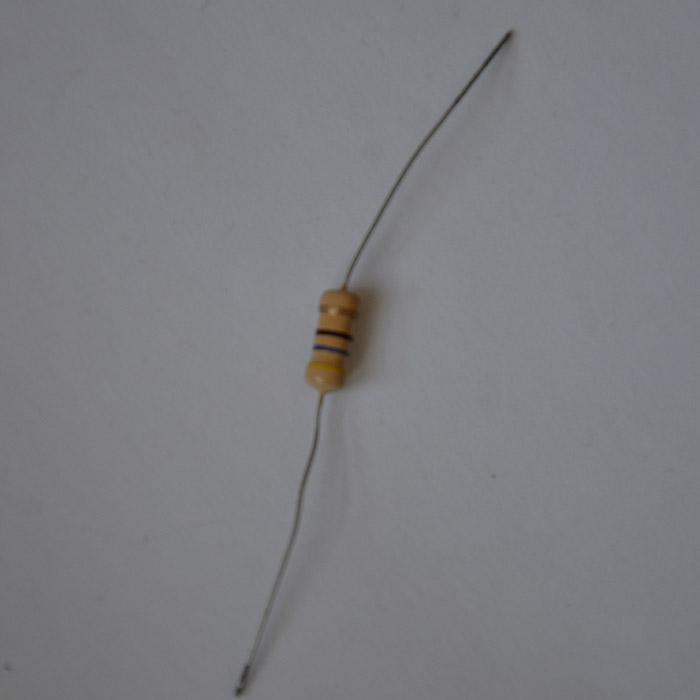resistor: (305, 287, 360, 395)
